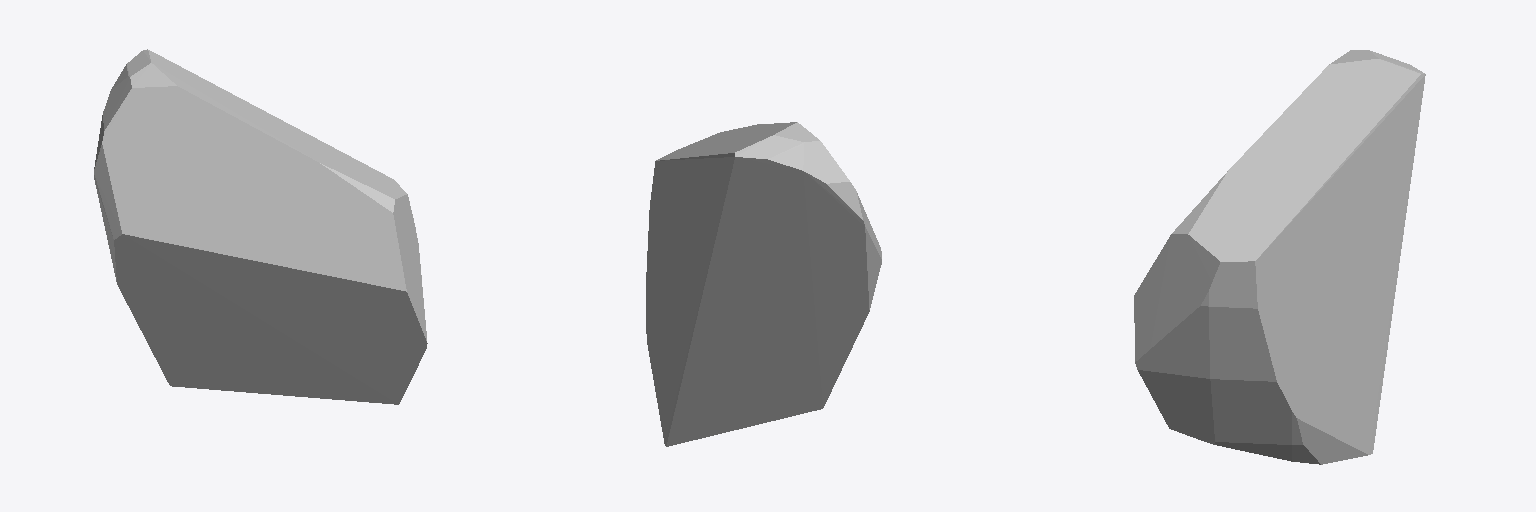
Rendered from Sphere_Cell_Fracture19.obj.
The picture shows the model from 3 angles: view 1: azimuth 30°, elevation 25°; view 2: azimuth 150°, elevation 25°; view 3: azimuth 270°, elevation 25°; orthographic projection.
Size of the model in its own units: 0.6964 by 0.8775 by 0.6798.